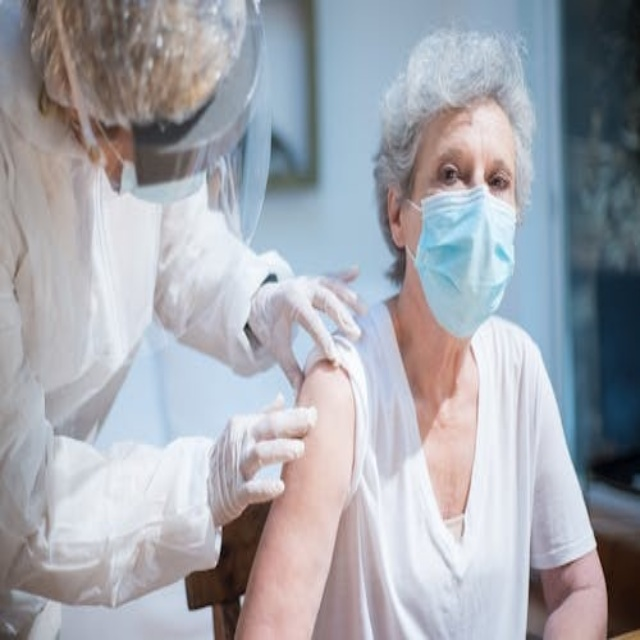Guantes: (206, 395, 315, 532), (247, 270, 366, 392)
Mascara: (413, 167, 522, 353), (111, 109, 225, 240)
Sin_gafas: (421, 134, 520, 205)
